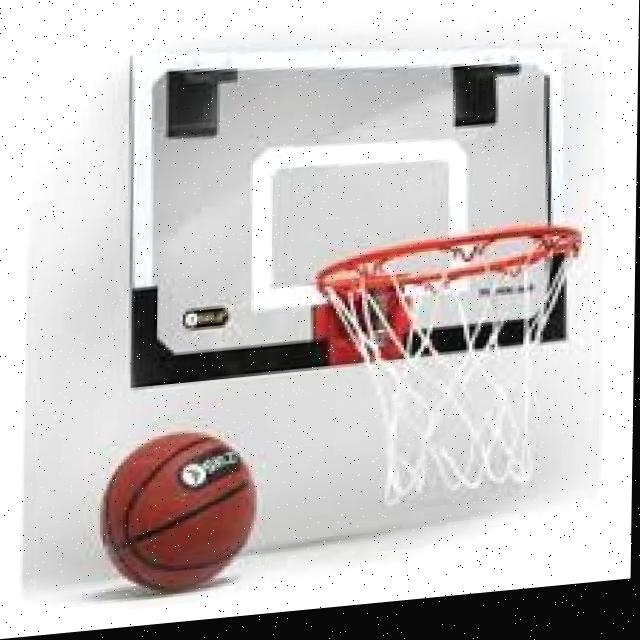Basketball: (97, 424, 265, 602)
